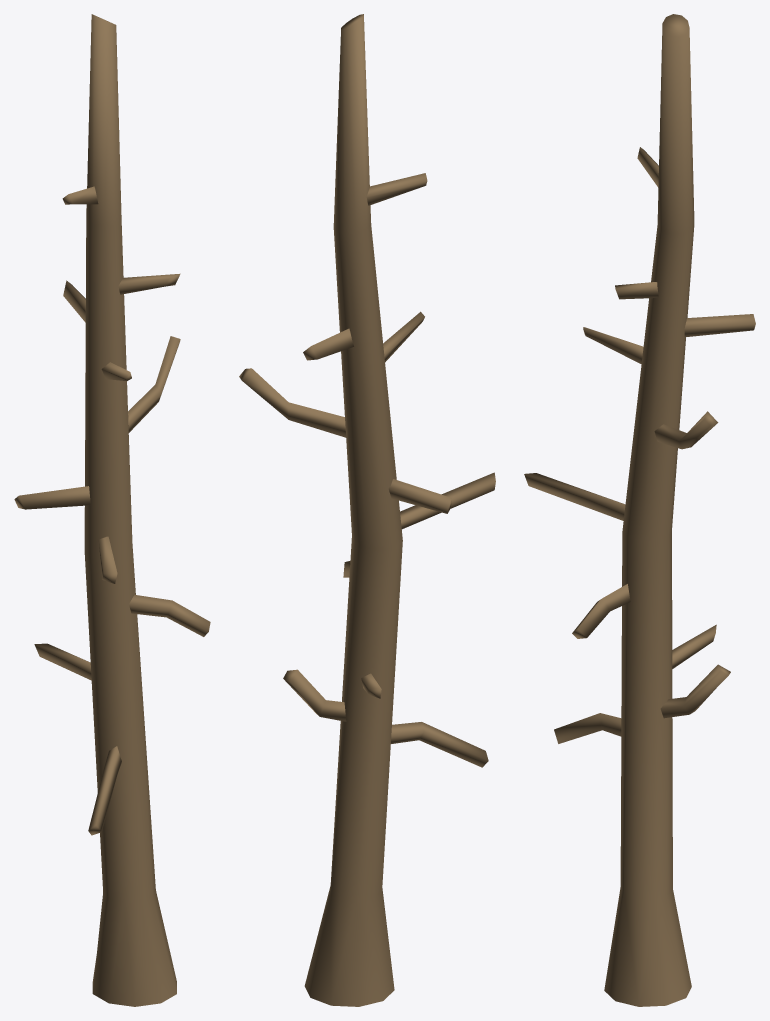
The model's file is rpgpp_av_tree_pine_dead_01a.gltf.
3 views of the same model, side by side, from view 1: azimuth 30°, elevation 25°; view 2: azimuth 150°, elevation 25°; view 3: azimuth 270°, elevation 25° (orthographic). The views are drawn at different scales.
Visible parts, largest first — view 1: rpgpp_av_tree_pine_dead_01a; view 2: rpgpp_av_tree_pine_dead_01a; view 3: rpgpp_av_tree_pine_dead_01a.
Boxes of the visible parts, x1,y1,x2,y2 form: rpgpp_av_tree_pine_dead_01a: (14, 14, 210, 1006); rpgpp_av_tree_pine_dead_01a: (239, 14, 495, 1006); rpgpp_av_tree_pine_dead_01a: (524, 14, 755, 1006).
Size of the model in its own units: 0.018 by 0.0899 by 0.0196.
1 material, 1 textured.
